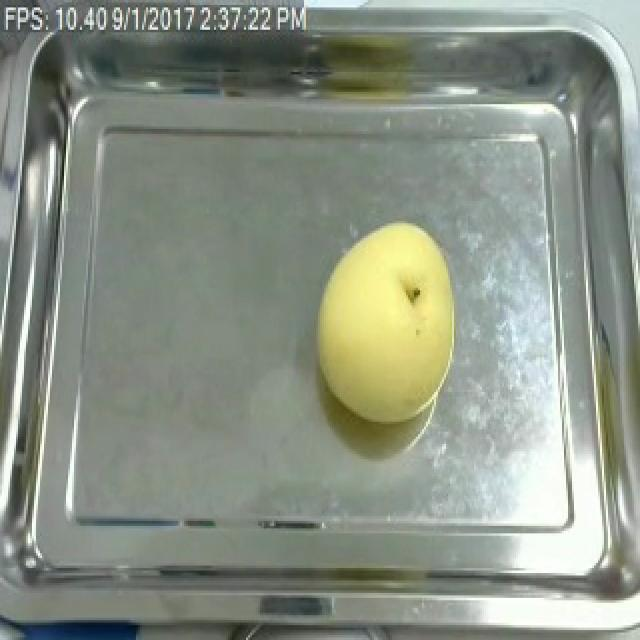Fruit: (306, 213, 464, 429)
